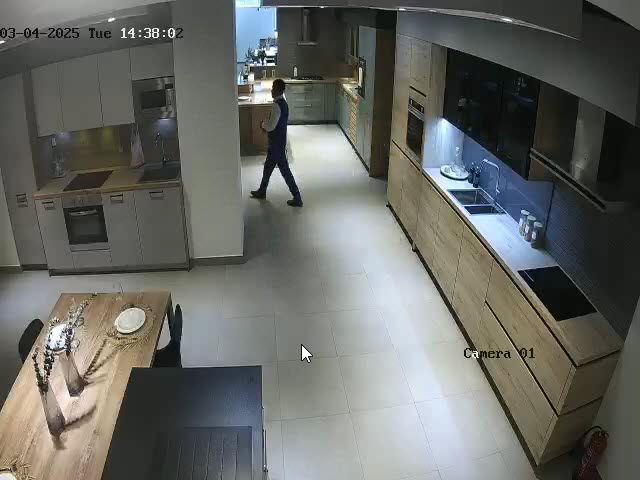employee: (249, 78, 303, 207)
